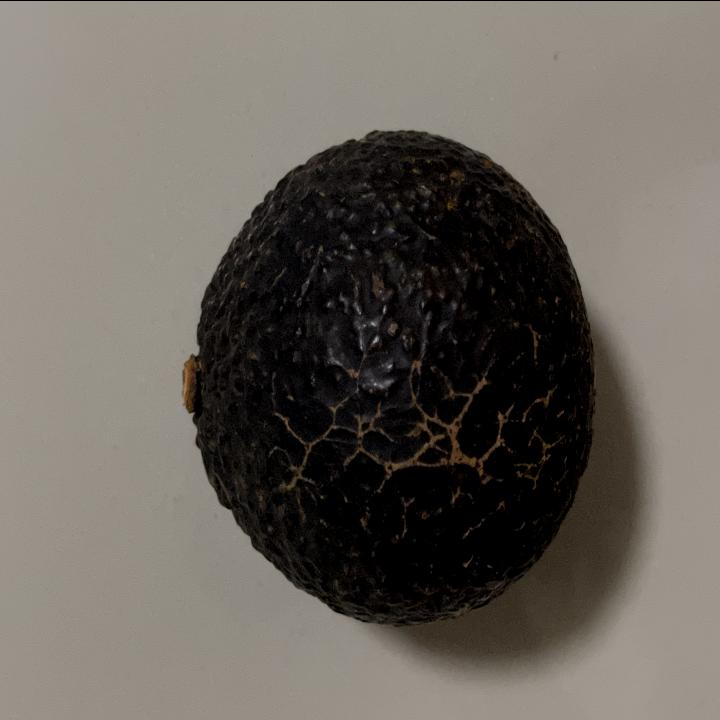Level2: (175, 115, 601, 635)
